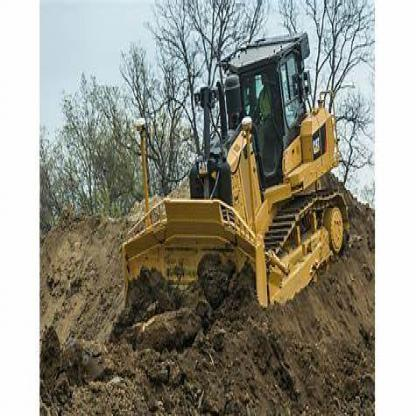bull_dozer/loader/grader: (114, 10, 349, 345)
